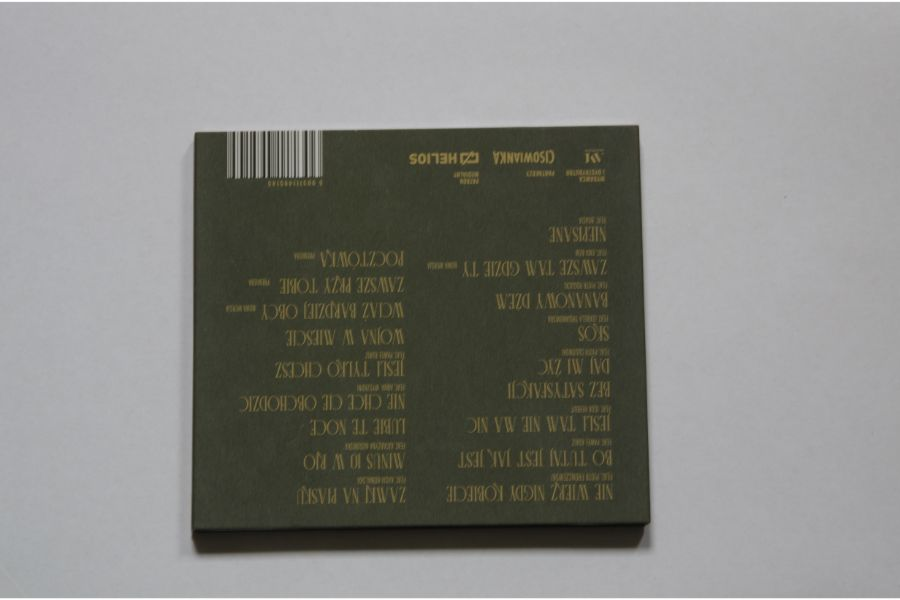album: (189, 130, 650, 525)
